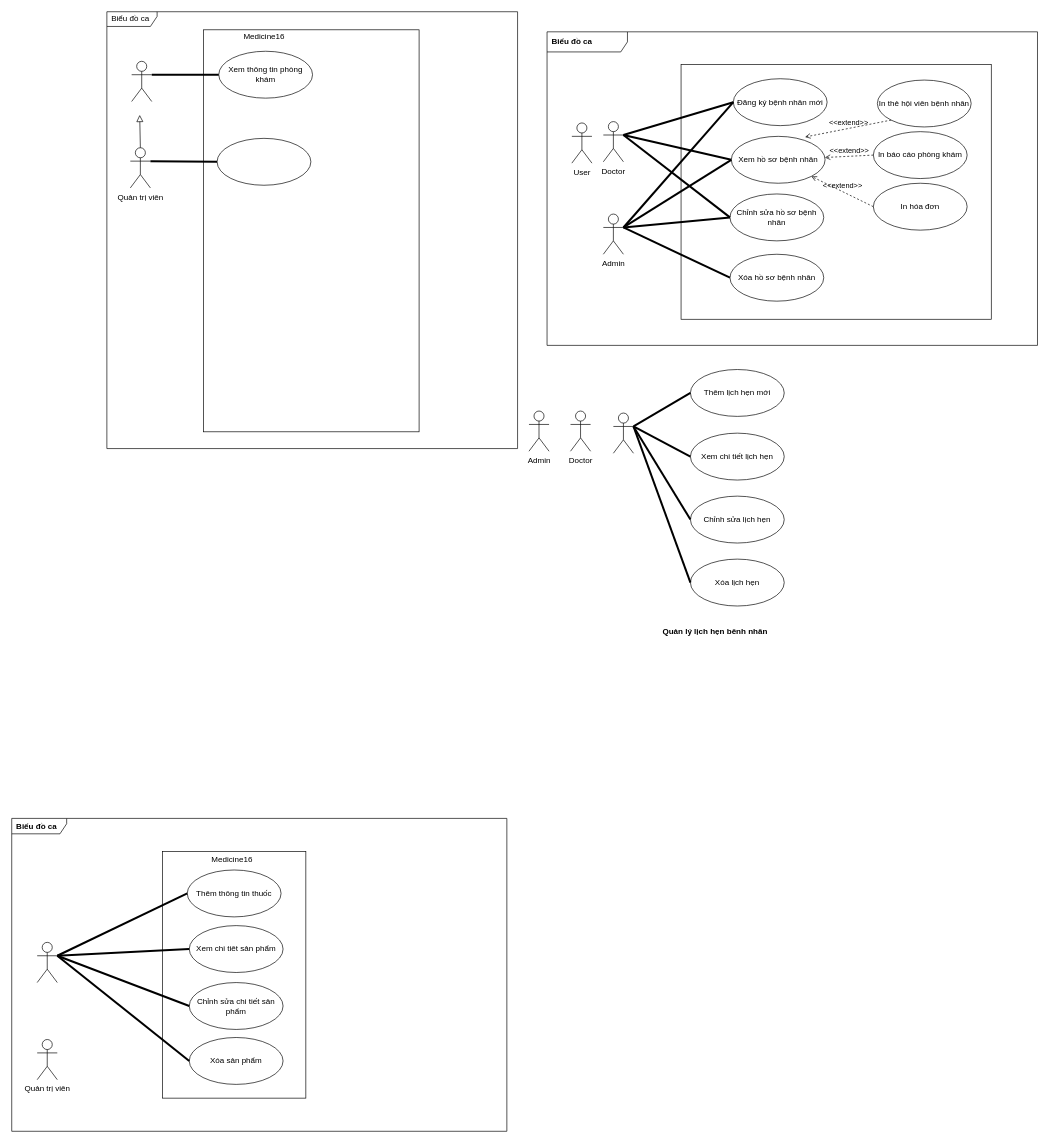
The diagram is 1049 pixels wide and 1143 high, and some of its shapes have lost their labels. Each missing label, with the centre of its shape:
"Khách" belongs at point 141,81.
"Nhân viên" belongs at point 47,962.
"Quản lý thông tin phòng khám" belongs at point 263,161.
"Staff" belongs at point 623,432.
